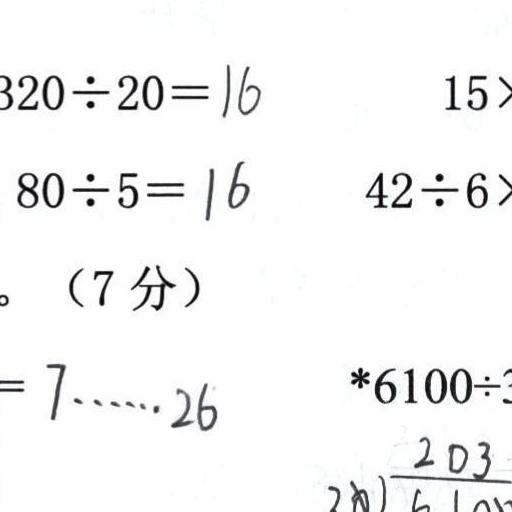ans: (39, 356, 218, 433), (196, 154, 250, 218), (215, 57, 261, 116)
